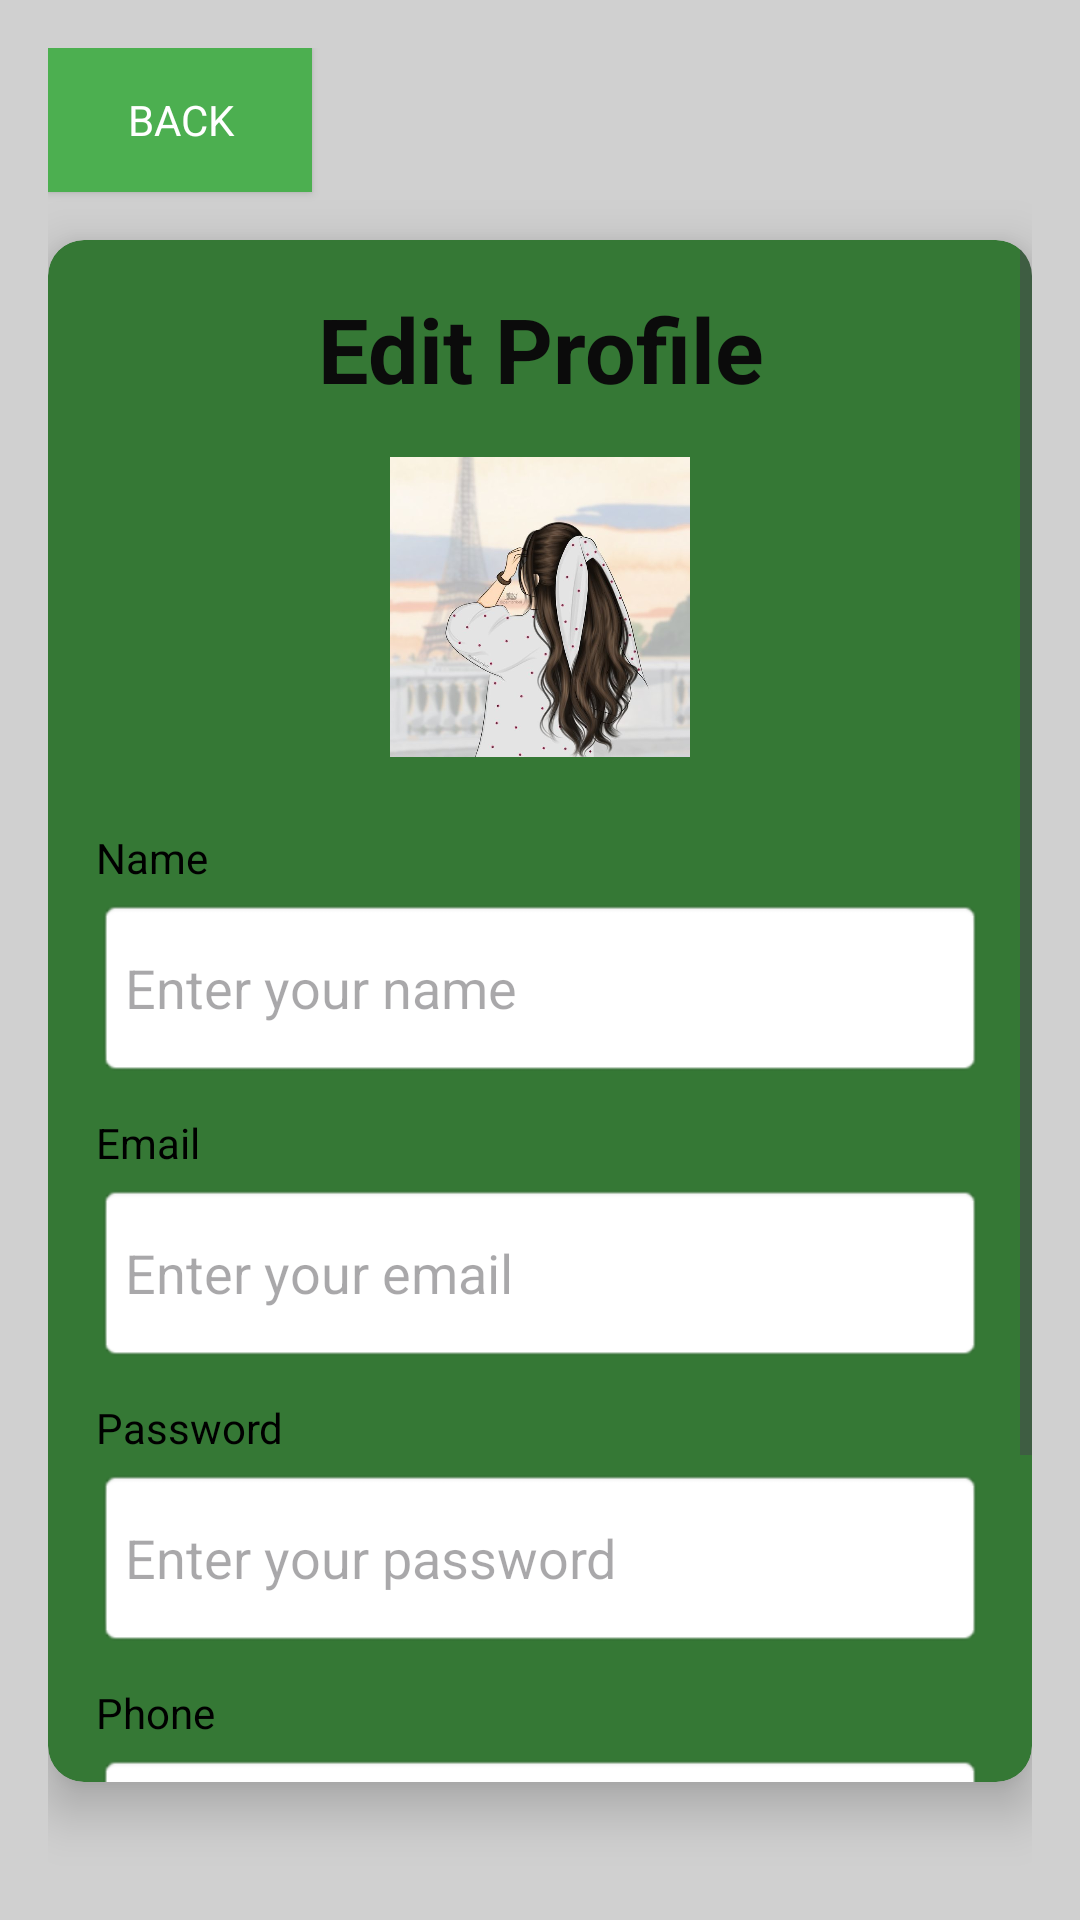

Where to tap for icons on this 1080*1920 app screen, as (x,y):
User Profile Image: (540,607)
